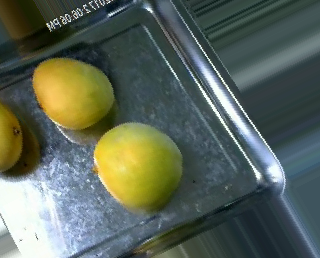Mango: (90, 122, 187, 209), (26, 59, 117, 130)
